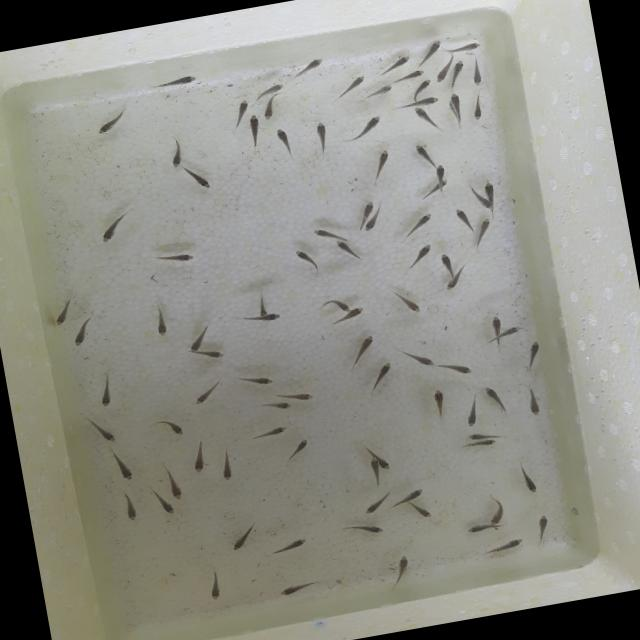fingerling: (94, 211, 137, 249), (88, 104, 133, 138), (340, 332, 380, 369), (424, 380, 456, 426), (223, 519, 264, 554), (105, 443, 138, 486), (328, 70, 372, 102), (383, 550, 418, 590), (342, 111, 384, 144), (364, 356, 398, 396), (478, 378, 512, 418), (266, 530, 314, 558), (180, 160, 218, 193), (398, 209, 438, 240), (83, 412, 118, 447), (280, 434, 316, 468), (482, 532, 529, 558), (149, 69, 202, 92), (483, 487, 515, 525), (398, 342, 437, 373), (516, 382, 547, 421), (340, 517, 390, 541), (232, 366, 278, 392), (160, 134, 193, 170), (402, 239, 438, 272), (272, 576, 326, 598), (291, 243, 323, 280), (188, 376, 226, 407), (92, 370, 121, 410), (519, 336, 548, 376), (410, 101, 444, 135), (309, 116, 336, 158), (153, 244, 198, 269), (184, 320, 219, 352), (184, 438, 213, 476), (246, 420, 296, 442), (148, 414, 187, 442), (116, 487, 144, 526), (290, 53, 330, 80), (162, 461, 188, 502), (368, 145, 396, 183), (390, 286, 424, 317), (69, 314, 99, 348), (471, 215, 499, 251), (147, 304, 175, 340), (48, 298, 81, 328), (272, 122, 298, 160), (202, 566, 228, 604), (514, 461, 542, 496), (460, 394, 486, 430), (530, 510, 556, 546), (416, 36, 446, 66), (436, 355, 472, 380), (374, 54, 414, 76), (215, 444, 238, 482), (409, 138, 438, 167), (245, 111, 266, 151), (332, 237, 363, 264), (405, 498, 437, 524), (392, 95, 440, 112), (444, 36, 484, 56), (234, 310, 284, 326), (358, 494, 392, 516), (257, 396, 294, 416), (153, 483, 174, 518), (466, 55, 488, 88), (317, 294, 350, 316), (388, 66, 428, 84), (307, 222, 339, 244), (468, 89, 489, 121), (451, 204, 473, 234), (449, 90, 466, 126), (196, 343, 228, 362), (461, 436, 501, 451), (258, 98, 282, 122), (366, 454, 384, 486), (364, 82, 395, 100), (230, 94, 252, 118), (463, 518, 494, 535), (501, 319, 526, 340), (450, 58, 470, 84), (290, 384, 316, 404), (254, 82, 286, 98), (428, 162, 451, 184), (412, 76, 435, 98), (438, 250, 457, 276), (398, 486, 428, 502), (464, 428, 498, 442), (433, 62, 452, 84), (439, 275, 462, 292), (487, 312, 505, 333), (362, 214, 381, 233), (358, 198, 378, 216), (481, 178, 496, 196), (478, 195, 494, 211), (348, 306, 367, 318), (377, 456, 392, 471)
